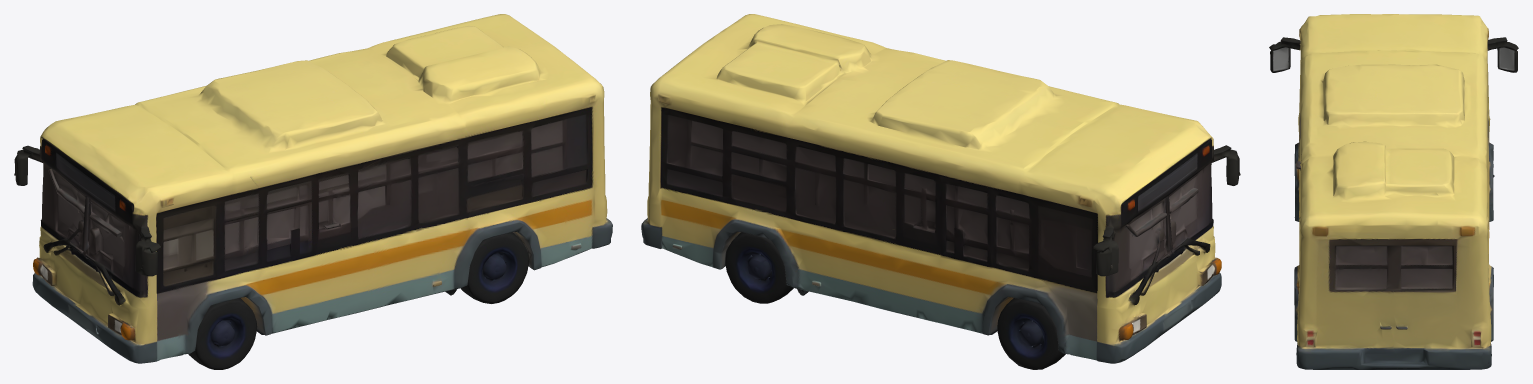
The model's file is bus-source.glb.
The picture shows the model from 3 angles, left to right: view 1: azimuth 30°, elevation 25°; view 2: azimuth 150°, elevation 25°; view 3: azimuth 270°, elevation 25°; orthographic projection. The views are drawn at different scales.
Visible parts, largest first — view 1: tripo_node_76bb4bda-1827-4067-ada3-f5495ee12844; view 2: tripo_node_76bb4bda-1827-4067-ada3-f5495ee12844; view 3: tripo_node_76bb4bda-1827-4067-ada3-f5495ee12844.
Boxes of the visible parts, left/top/right/bottom form: tripo_node_76bb4bda-1827-4067-ada3-f5495ee12844: left=14, top=14, right=612, bottom=369; tripo_node_76bb4bda-1827-4067-ada3-f5495ee12844: left=641, top=14, right=1240, bottom=369; tripo_node_76bb4bda-1827-4067-ada3-f5495ee12844: left=1269, top=14, right=1518, bottom=369.
Bounding box in the file's own units: 1 × 0.4196 × 0.4858.
1 material, 1 textured.
